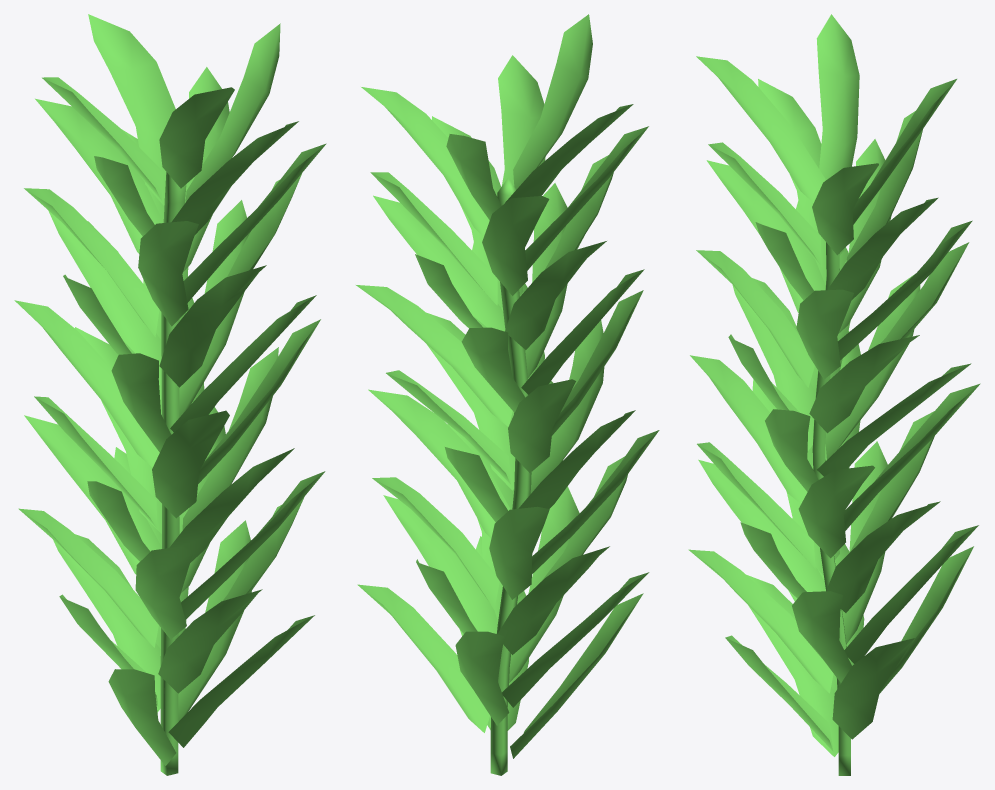
The model's file is SimpleSeaweed (1).fbx.
3 views of the same model, side by side, from view 1: azimuth 30°, elevation 25°; view 2: azimuth 150°, elevation 25°; view 3: azimuth 270°, elevation 25° (orthographic). The views are drawn at different scales.
Visible parts, largest first — view 1: Plant.004; view 2: Plant.004; view 3: Plant.004.
Part boxes in pixels (x1,y1,x2,y2): Plant.004: [14, 14, 326, 775]; Plant.004: [356, 14, 659, 775]; Plant.004: [688, 14, 980, 775].
Size of the model in its own units: 8.06 by 20.92 by 7.82.
